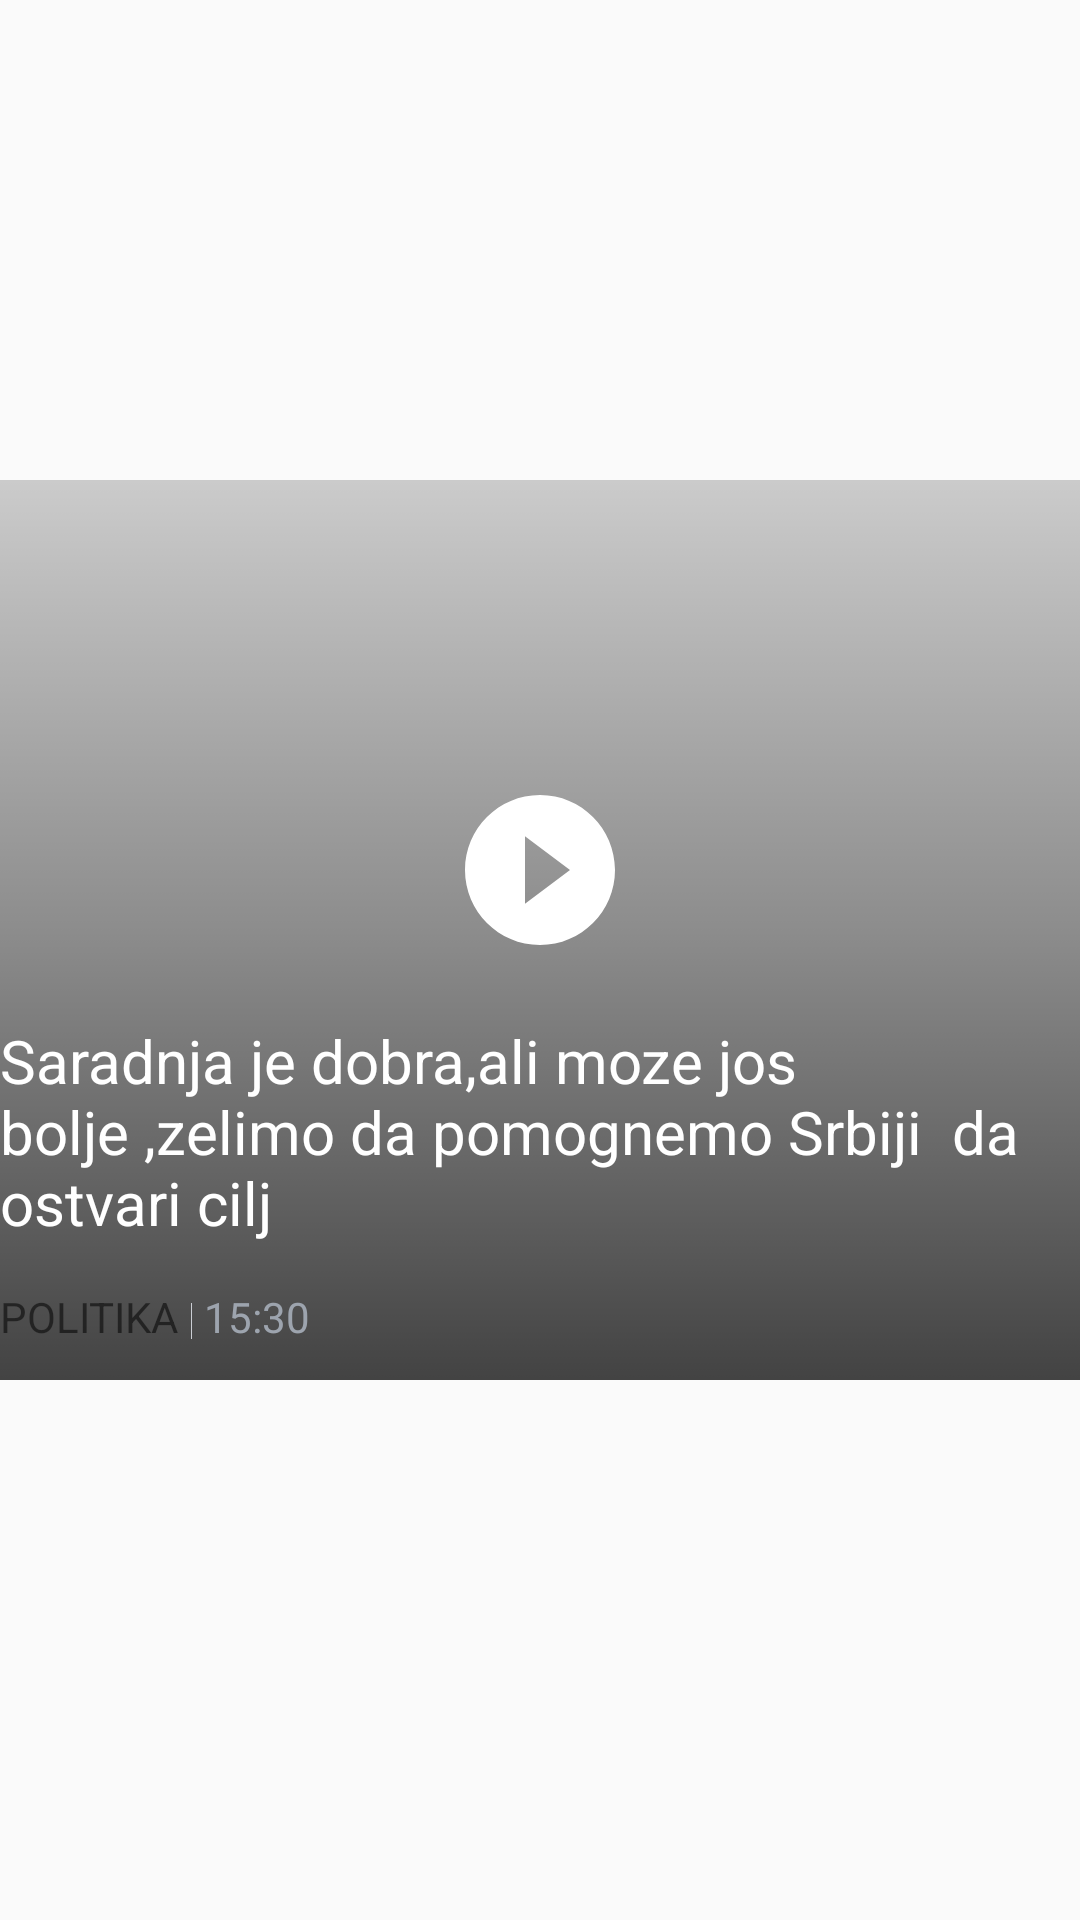

Named icons in this screenshot (1080px×1920px) and their bounding boxes, BBox(x1, y1, x2, y2):
play circle: BBox(465, 795, 615, 945)
